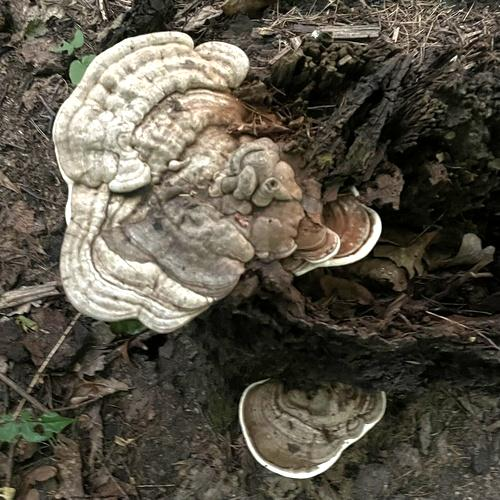Ganoderma - Fruit Body: (38, 24, 389, 344), (227, 360, 392, 483)
